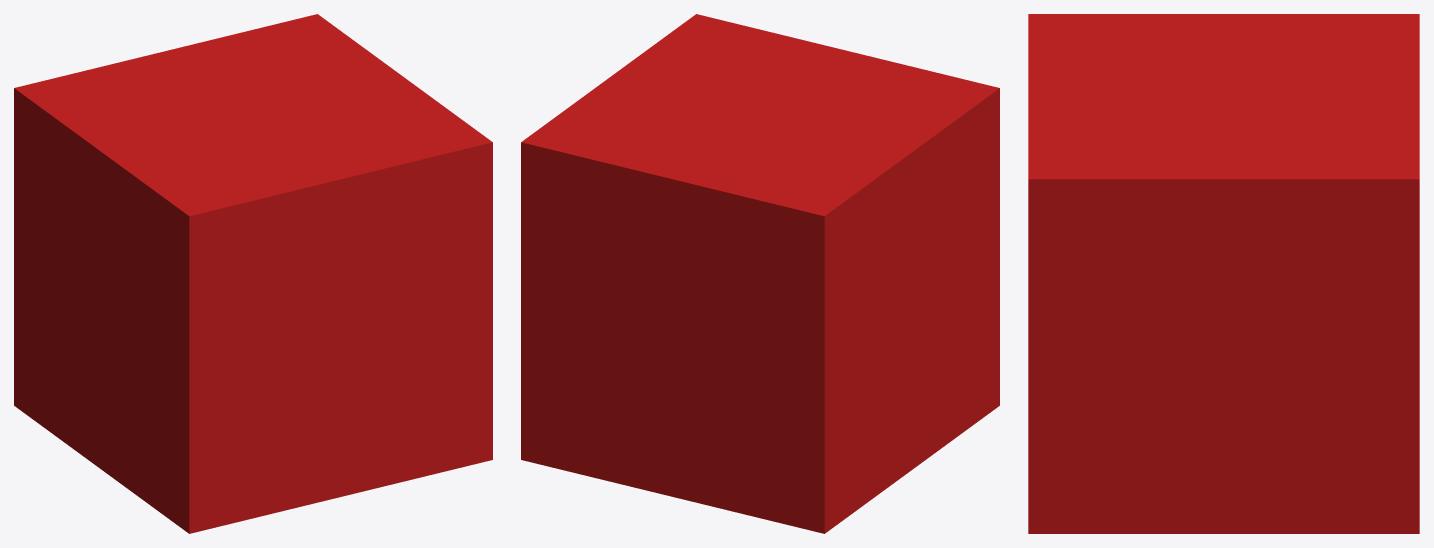
File: cubegridbig.obj
The picture shows the model from 3 angles, left to right: view 1: azimuth 30°, elevation 25°; view 2: azimuth 150°, elevation 25°; view 3: azimuth 270°, elevation 25°; orthographic projection. The views are drawn at different scales.
Size of the model in its own units: 2 by 2 by 2.
